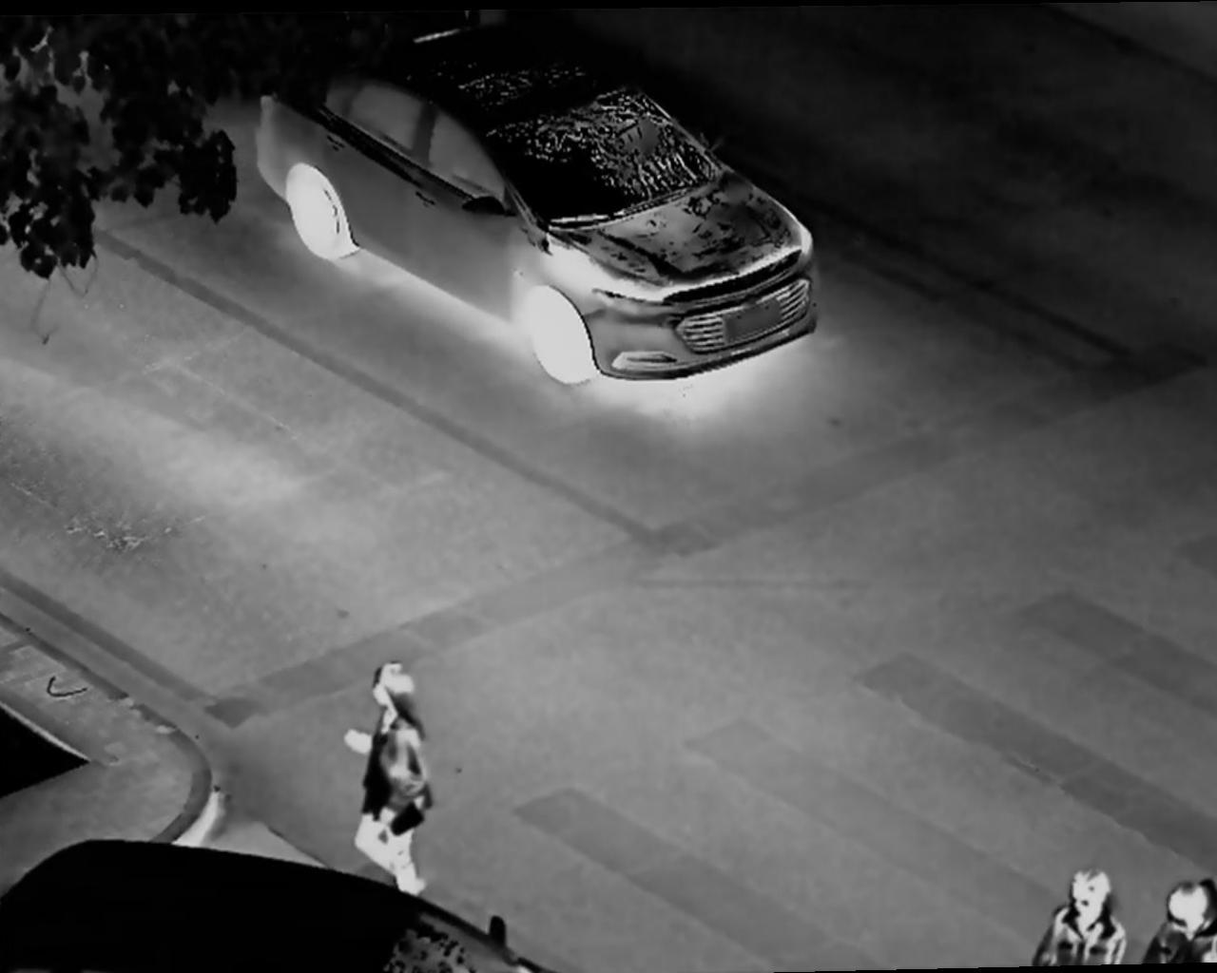person: (338, 650, 454, 900), (1018, 856, 1107, 973), (1137, 873, 1214, 973)
